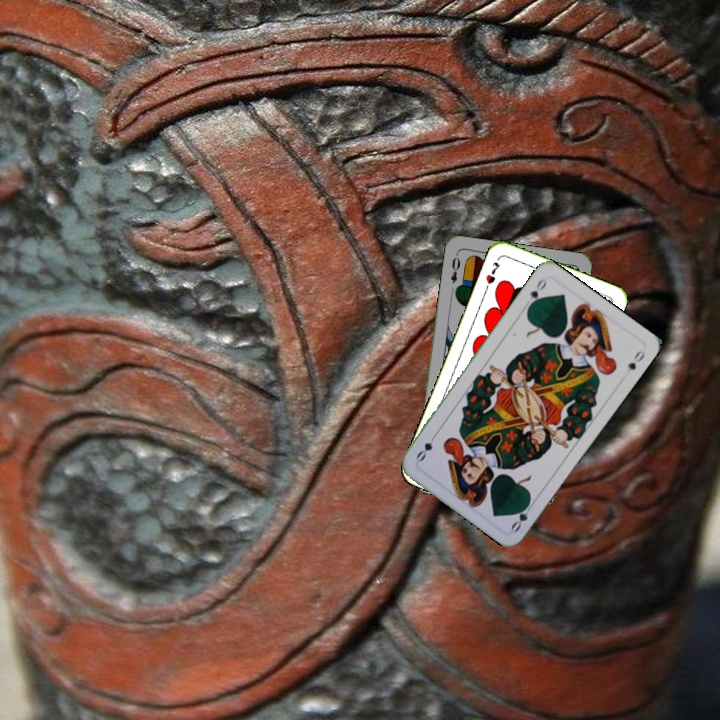EO: (447, 253, 463, 286)
GO: (507, 496, 537, 535), (524, 274, 549, 311)
H7: (481, 258, 503, 294)
